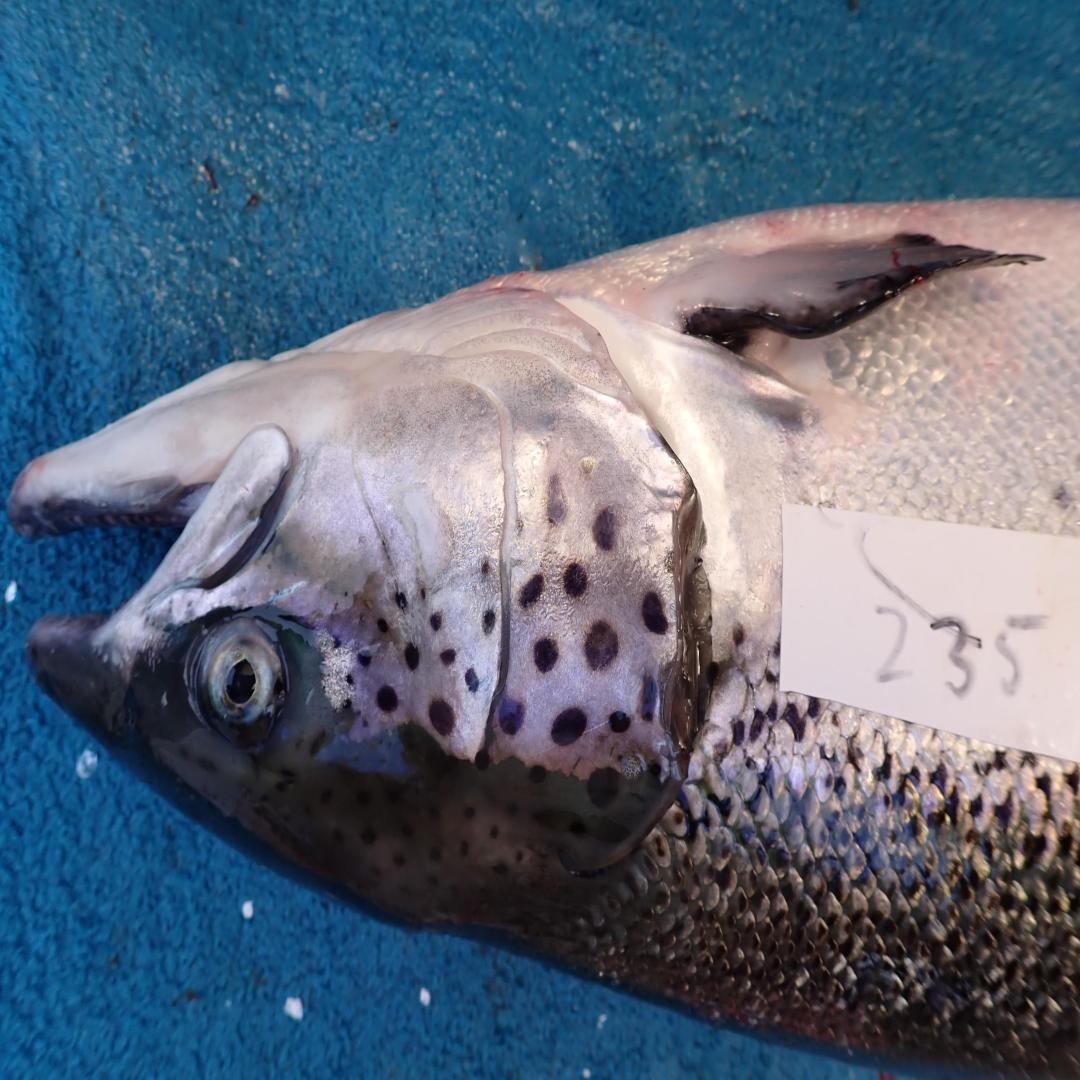spot: (584, 619, 618, 669), (551, 706, 589, 745), (641, 591, 669, 636), (546, 472, 567, 523), (498, 698, 525, 737), (428, 700, 456, 737), (593, 506, 616, 551), (639, 675, 658, 723), (563, 562, 589, 596), (534, 638, 559, 672), (519, 574, 544, 608), (375, 686, 399, 712), (610, 712, 631, 734), (405, 641, 420, 669), (464, 667, 479, 692), (483, 610, 496, 633), (430, 610, 443, 633), (375, 616, 390, 633), (356, 652, 371, 667), (515, 512, 525, 534), (441, 650, 456, 664), (397, 593, 407, 610), (481, 560, 489, 577), (332, 636, 341, 651), (420, 588, 428, 602), (342, 698, 352, 709), (345, 674, 354, 685)
